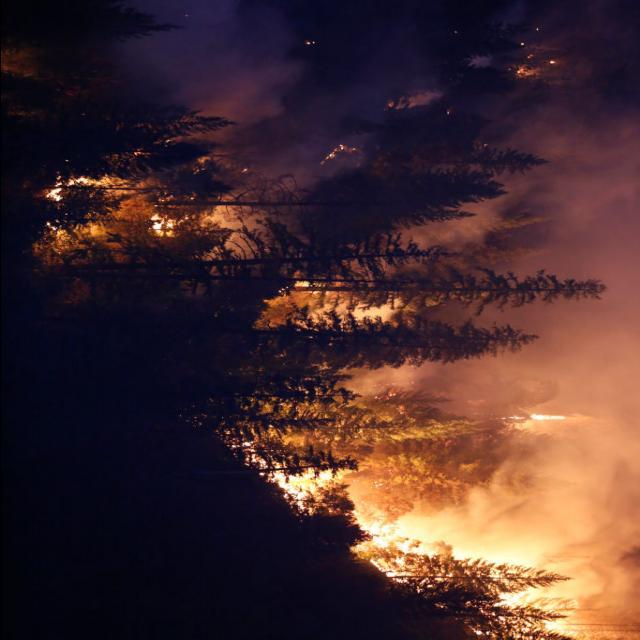Fire: (271, 468, 578, 640)
